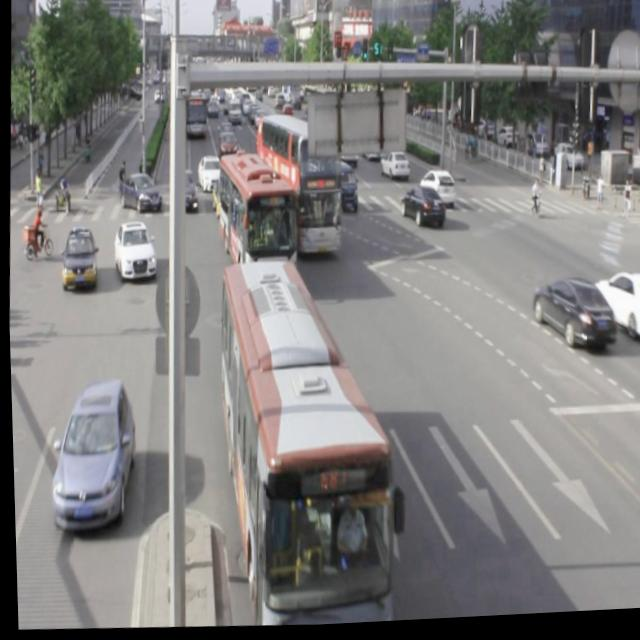car: (44, 374, 136, 533), (527, 277, 614, 356), (587, 272, 640, 346), (110, 218, 157, 283), (397, 186, 444, 233)
van: (208, 257, 399, 632), (252, 114, 342, 258), (214, 152, 299, 283)
